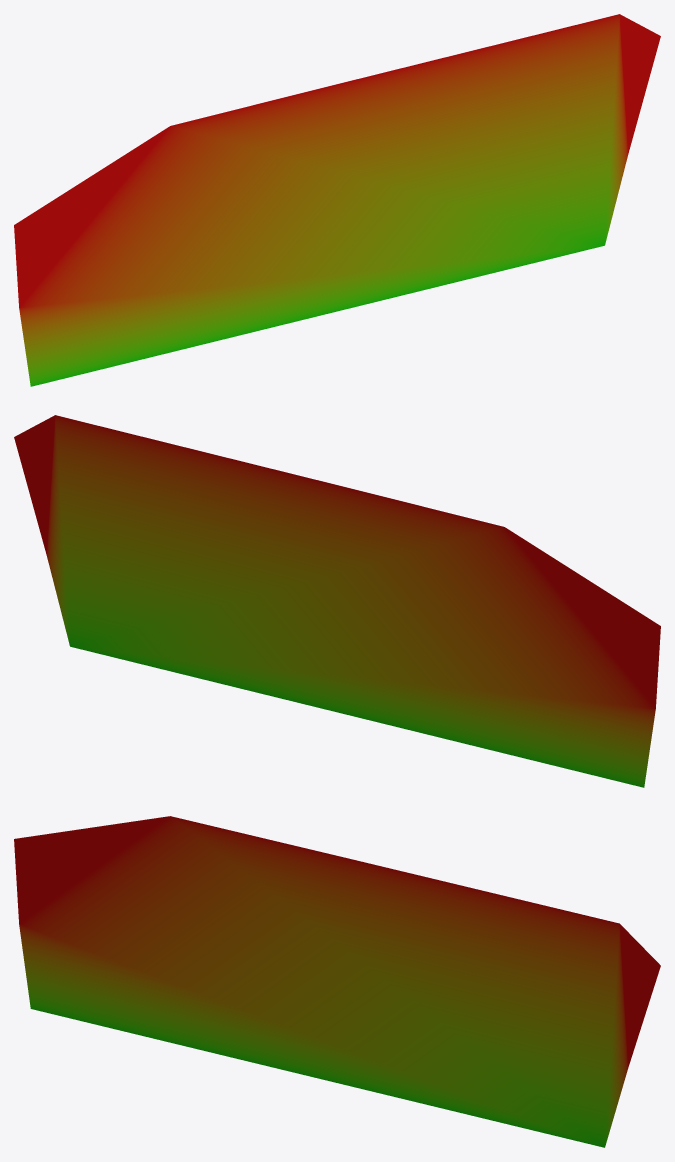
The model's file is Var11_LOD3.fbx.
3 renders of one model, top to bottom at view 1: azimuth 30°, elevation 25°; view 2: azimuth 150°, elevation 25°; view 3: azimuth 330°, elevation 25°, orthographic.
Parts seen in each view (by area): view 1: _fd48_Var11_LOD3; view 2: _fd48_Var11_LOD3; view 3: _fd48_Var11_LOD3.
Boxes of the visible parts, left/top/right/bottom form: _fd48_Var11_LOD3: left=14, top=14, right=660, bottom=386; _fd48_Var11_LOD3: left=14, top=415, right=660, bottom=787; _fd48_Var11_LOD3: left=14, top=816, right=660, bottom=1147.
Size of the model in its own units: 27.37 by 9.26 by 3.28e-07.
